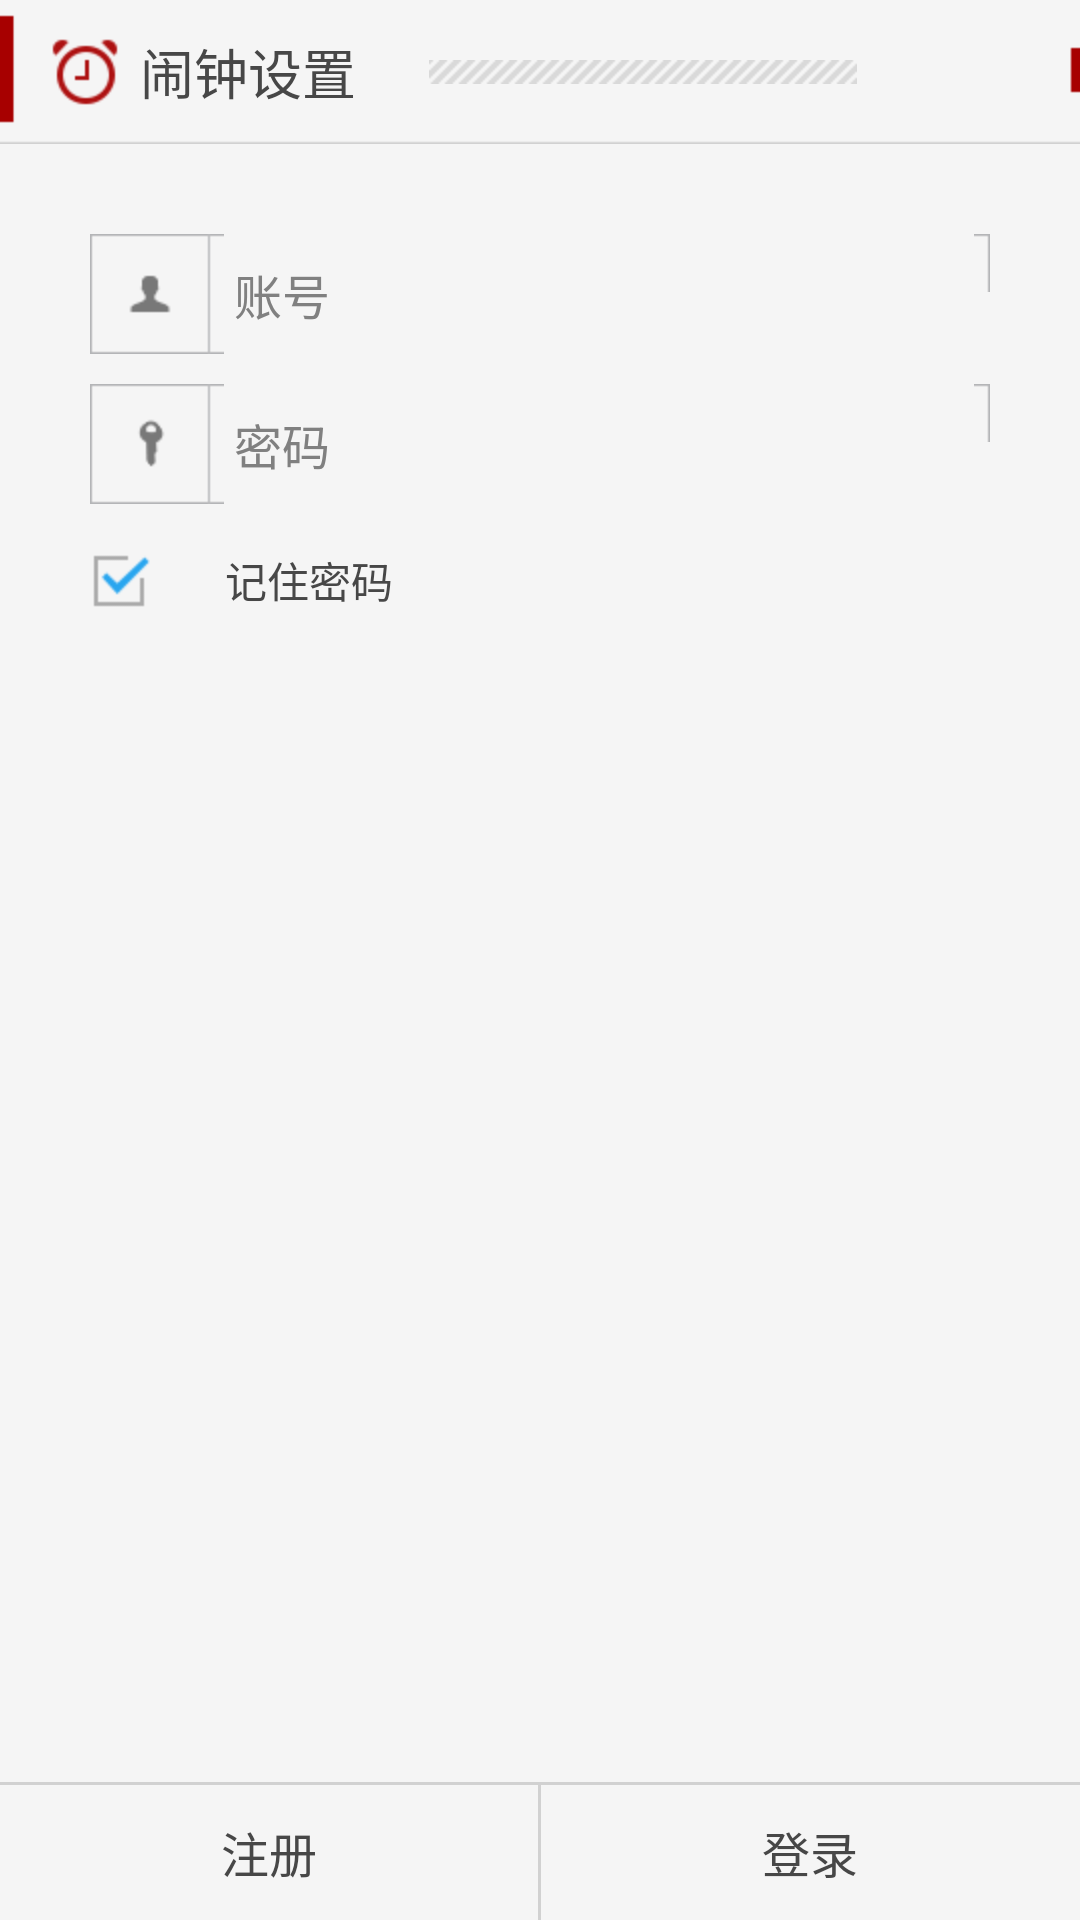

Named icons in this screenshot (1080 × 1920) and their bounding boxes, (x1, y1, x2, y2):
login user: (130, 275, 170, 313)
